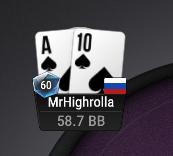10s: (73, 29, 124, 93)
As: (35, 32, 71, 93)
